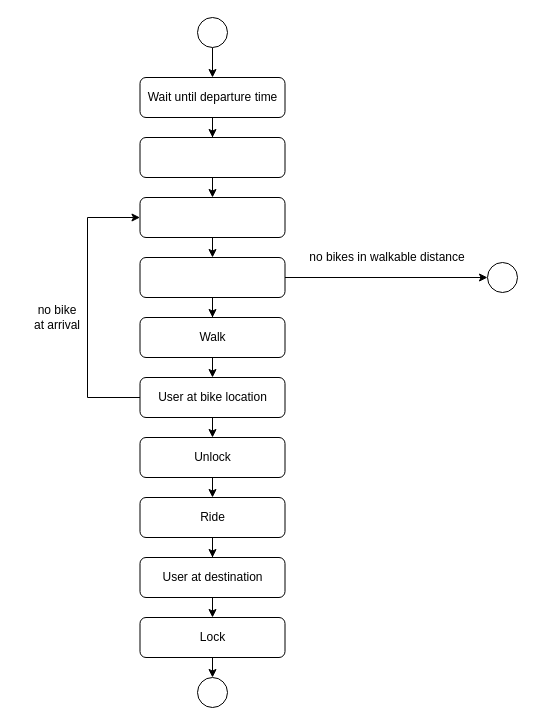
Image size: 535x725. Some labels were removed from this diagram. Here are the shapes that lost their labels. From the top down, the centre of each, then its label:
At (x=212, y=157): "User initialized at origin".
At (x=212, y=217): "Check bikes".
At (x=212, y=277): "Select bike".
